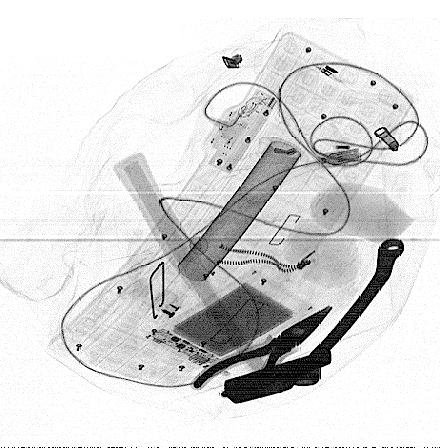Hammer: (112, 151, 332, 405)
Pliers: (191, 304, 334, 404)
Powerbank: (145, 264, 317, 372)
Wrench: (289, 236, 405, 385)
